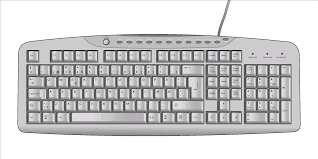keyboard: (10, 30, 307, 139)
